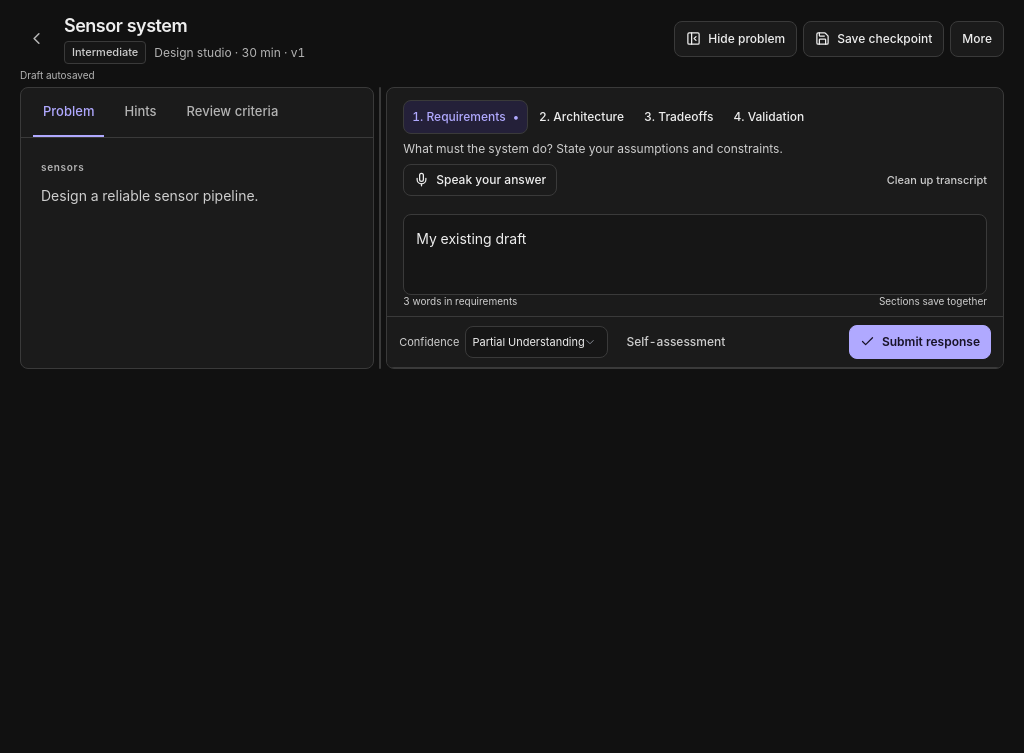
Scenario: opens design questions in a studio, preserves the draft, and coaches from Hints
This screenshot has width=1024, height=753.
expect the text box named "Written response" holds "My existing draft": met, box [403,214,987,296]
Click the button "3. Tradeoffs" at (679, 117), box [635,100,722,134]
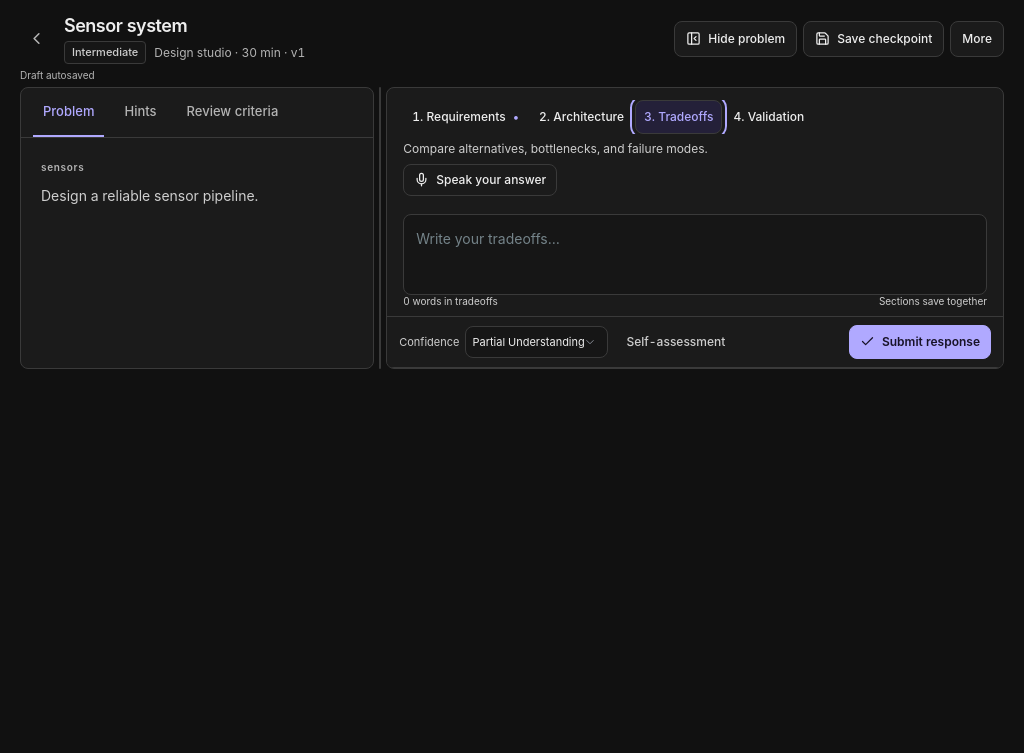
expect the text "Compare alternatives, bottlenecks, and failure modes." is shown: met, box [403,141,708,156]
Click the tab "Hints" at (141, 113), box [114,88,167,137]
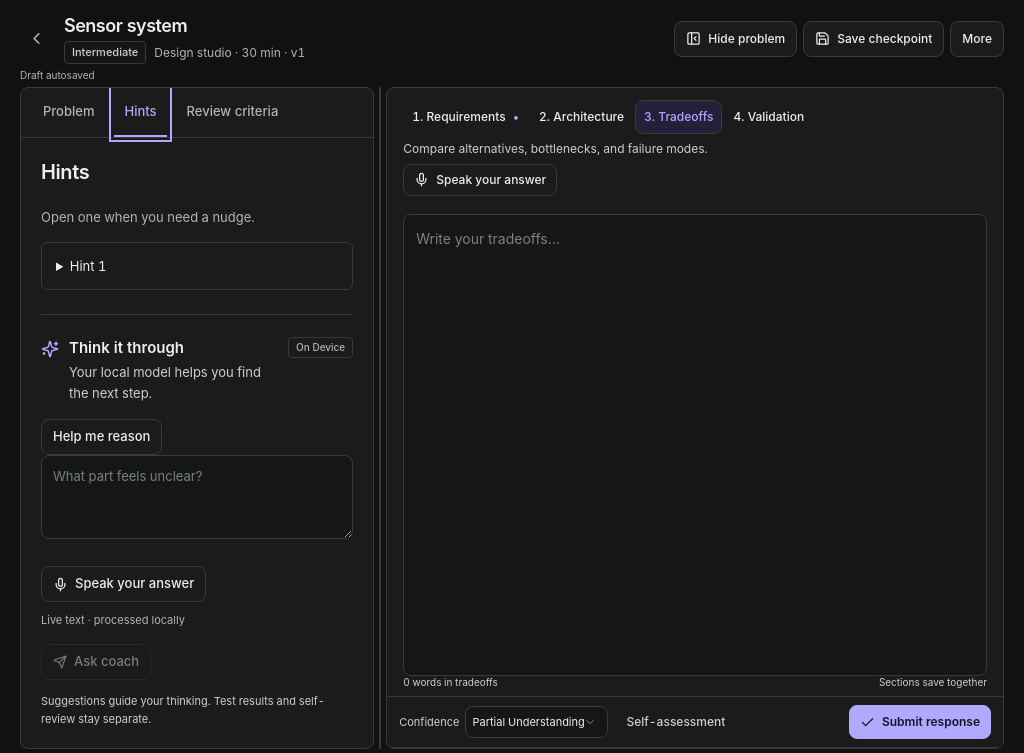
Click the button "Help me reason" at (102, 437), box [41,419,162,455]
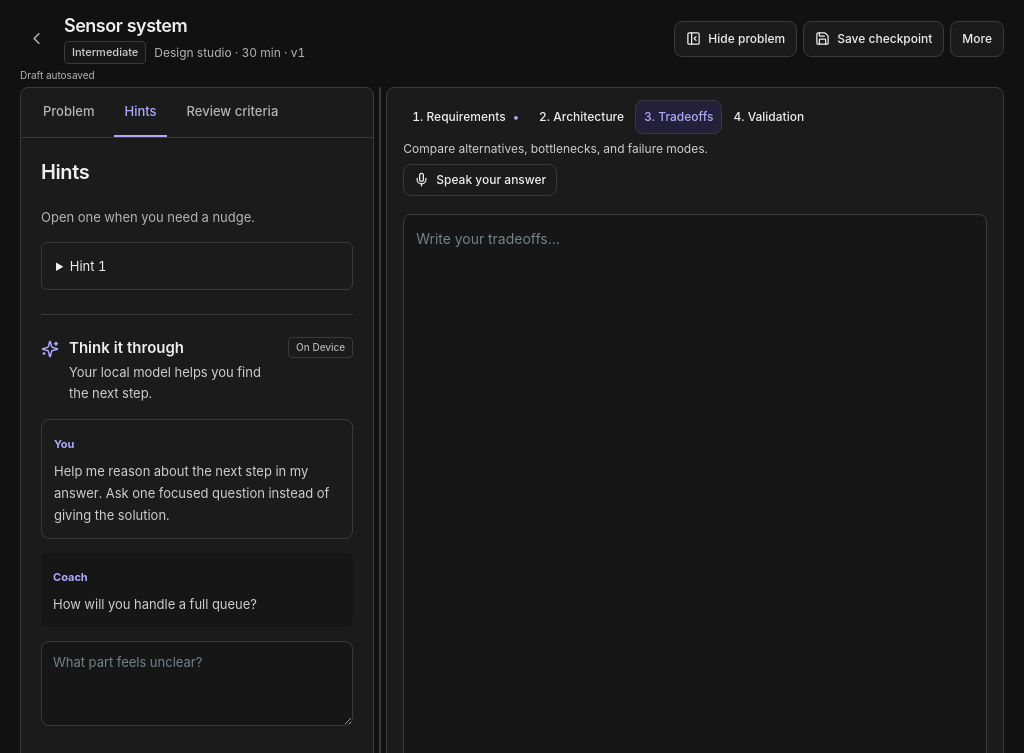
expect the text "How will you handle a full queue?" is shown: met, box [53,596,257,612]
